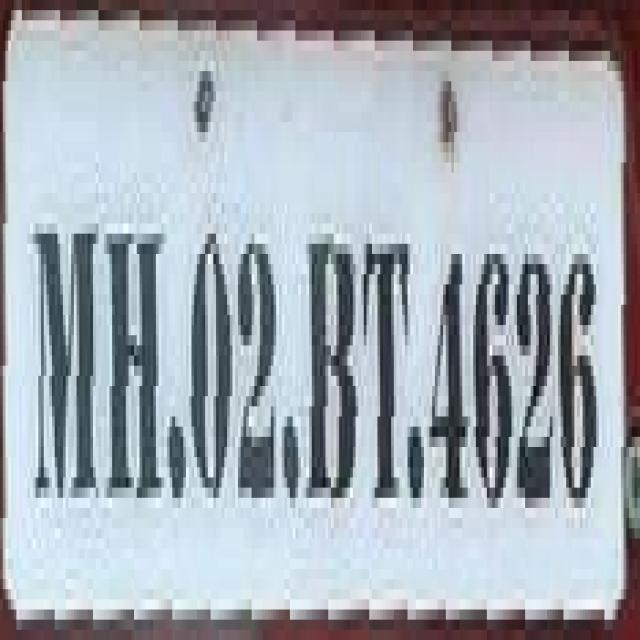plate: (30, 51, 640, 630)
